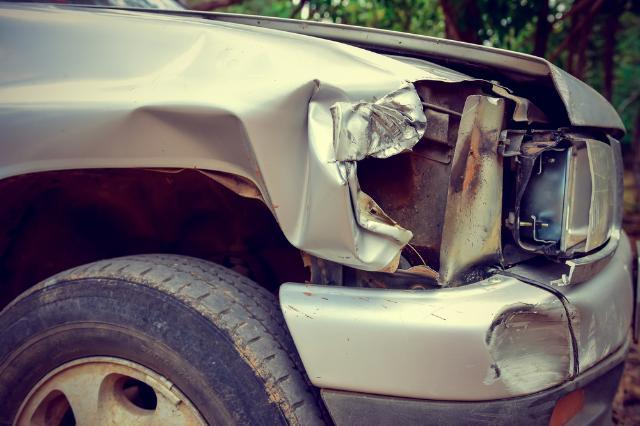dent: (119, 82, 423, 266), (486, 301, 573, 394), (565, 298, 602, 372)
dislocated part: (103, 8, 626, 133), (282, 254, 576, 426)
no part: (355, 78, 567, 289)
